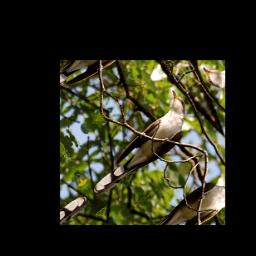Cuckoo: (74, 87, 202, 204)
